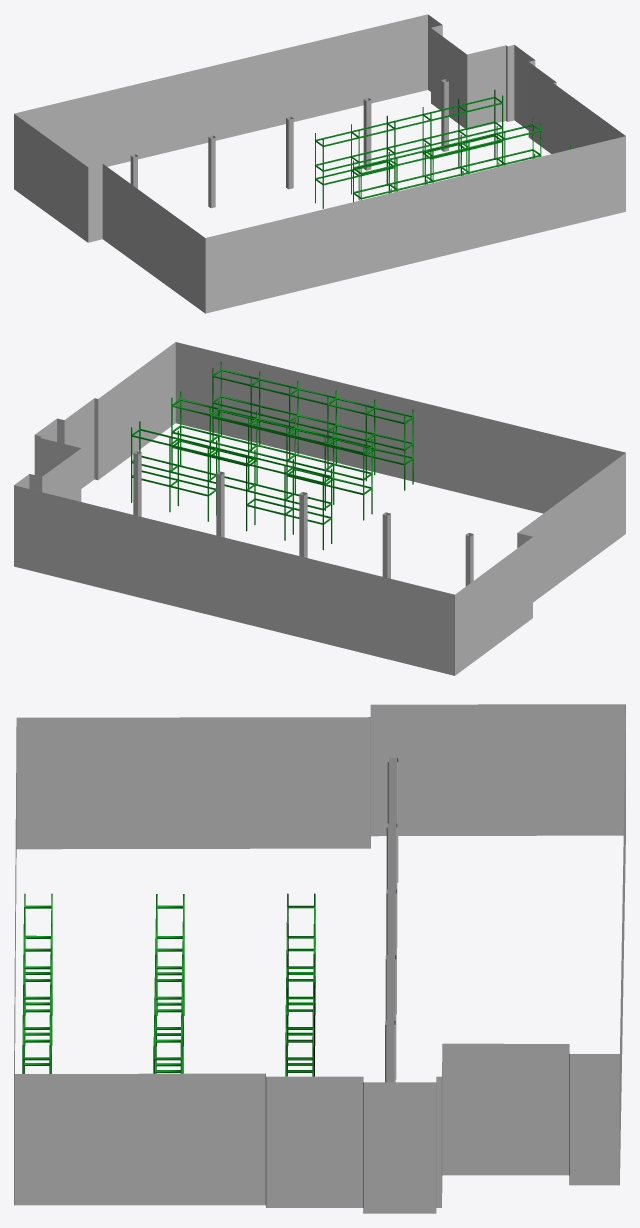
Rendered from HalleInnen.fbx.
3 renders of one model, top to bottom at view 1: azimuth 30°, elevation 25°; view 2: azimuth 150°, elevation 25°; view 3: azimuth 270°, elevation 25°, orthographic. The views are drawn at different scales.
Visible parts, largest first — view 1: Walls, Rack1, Rack2, Pillars; view 2: Walls, Rack3, Rack2, Rack1, Pillars; view 3: Walls, Pillars, Rack2, Rack1, Rack3.
Boxes of the visible parts, left/top/right/bottom form: Walls: left=14, top=14, right=625, bottom=313; Rack1: left=315, top=89, right=503, bottom=208; Rack2: left=353, top=117, right=541, bottom=201; Pillars: left=130, top=79, right=448, bottom=208; Walls: left=14, top=342, right=625, bottom=675; Rack3: left=212, top=362, right=413, bottom=490; Rack2: left=171, top=391, right=372, bottom=520; Rack1: left=131, top=421, right=332, bottom=550; Pillars: left=133, top=451, right=473, bottom=586; Walls: left=14, top=704, right=625, bottom=1213; Pillars: left=385, top=757, right=398, bottom=1082; Rack2: left=153, top=894, right=184, bottom=1073; Rack1: left=285, top=893, right=315, bottom=1076; Rack3: left=22, top=893, right=52, bottom=1073.
Size of the model in its own units: 34404 by 5577 by 23530.
